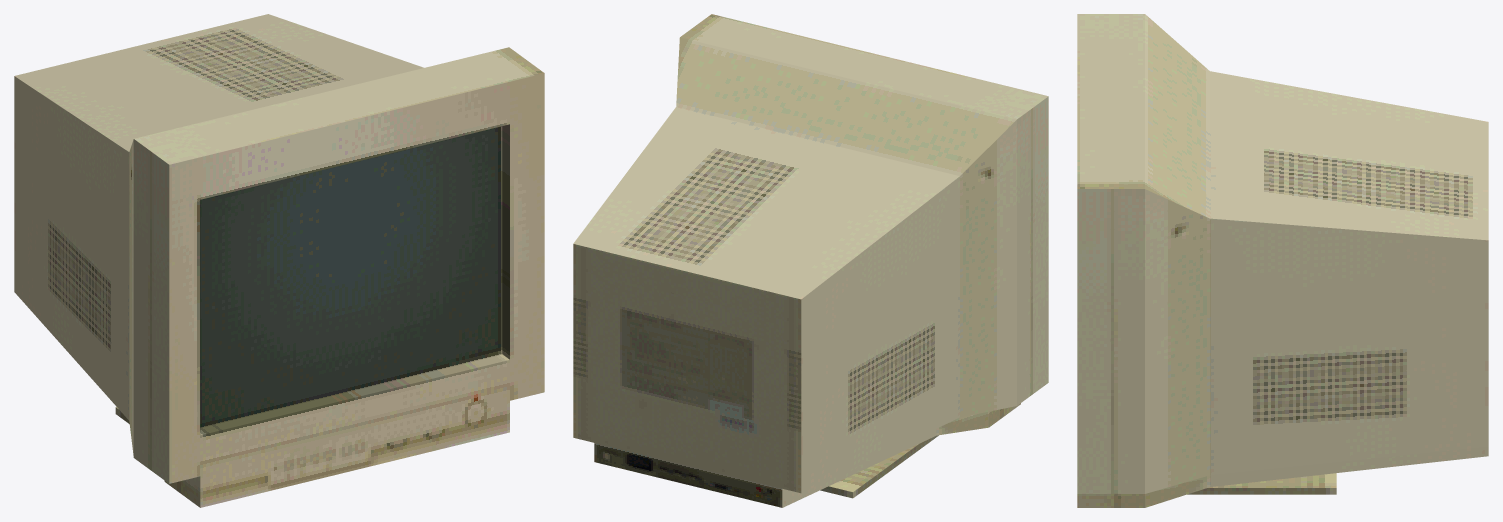
File: old_monitor.glb
The picture shows the model from 3 angles, left to right: view 1: azimuth 30°, elevation 25°; view 2: azimuth 150°, elevation 25°; view 3: azimuth 270°, elevation 25°; orthographic projection. The views are drawn at different scales.
Parts seen in each view (by area): view 1: screen; view 2: screen, pad; view 3: screen, pad.
Part boxes in pixels (left/top/right/bottom): screen: left=14, top=14, right=544, bottom=507; screen: left=573, top=14, right=1048, bottom=507; pad: left=820, top=435, right=938, bottom=498; screen: left=1077, top=14, right=1488, bottom=507; pad: left=1187, top=473, right=1336, bottom=494.
Size of the model in its own units: 2.26 by 2.12 by 2.24.
Materials: 1 (1 with a texture image).
